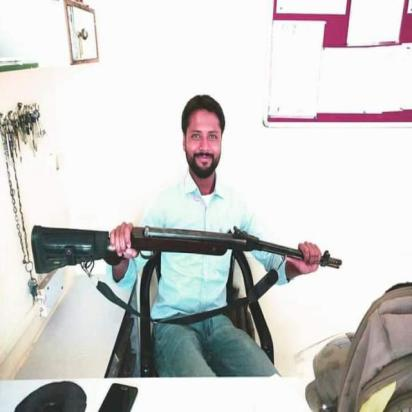Gun: (28, 222, 344, 277)
